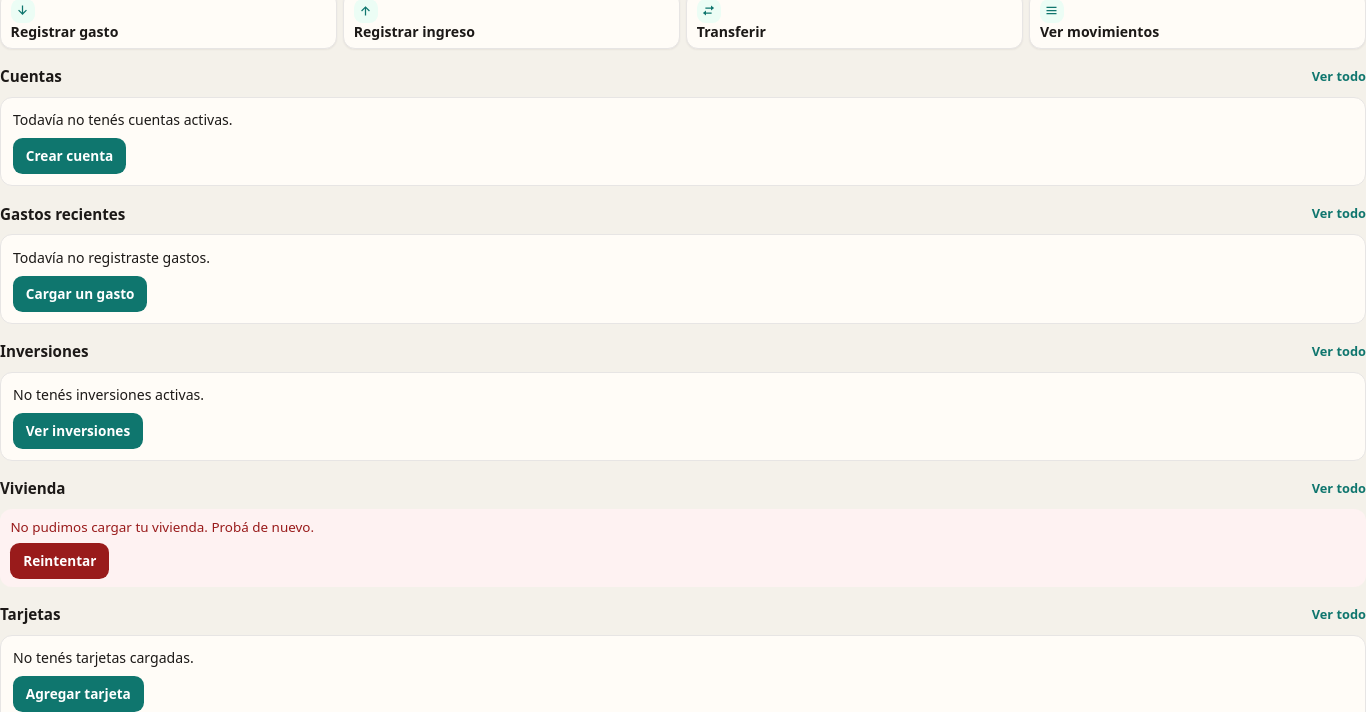
Scenario: Dashboard › keeps financial metrics visible when housing fails and retries locally
(page scrolled)
Expected: the text "No pudimos cargar tu vivienda. Probá de nuevo." is shown, [10,517,314,538]
Step 1. Click the button "Reintentar" → x=60, y=561, box [10,543,109,579]
(page scrolled)
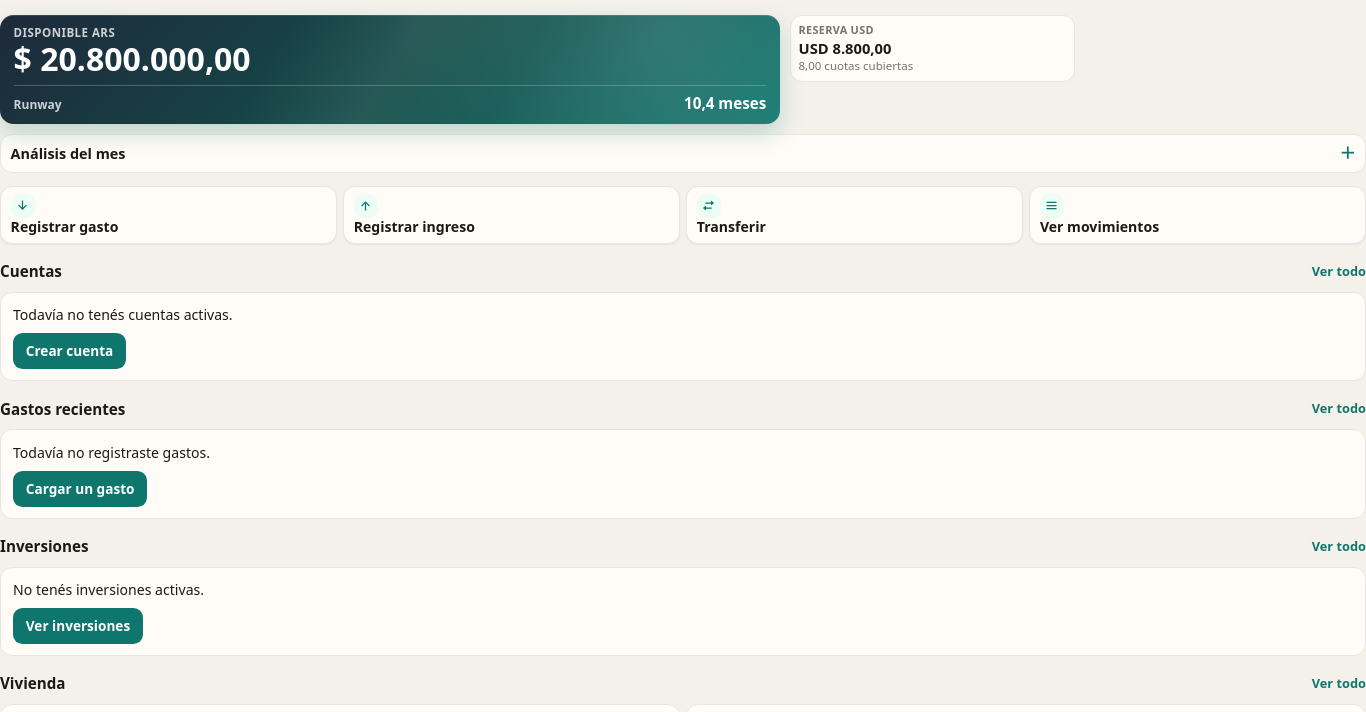
Expected: the text "8,00 cuotas cubiertas" is shown, [798,58,913,73]
